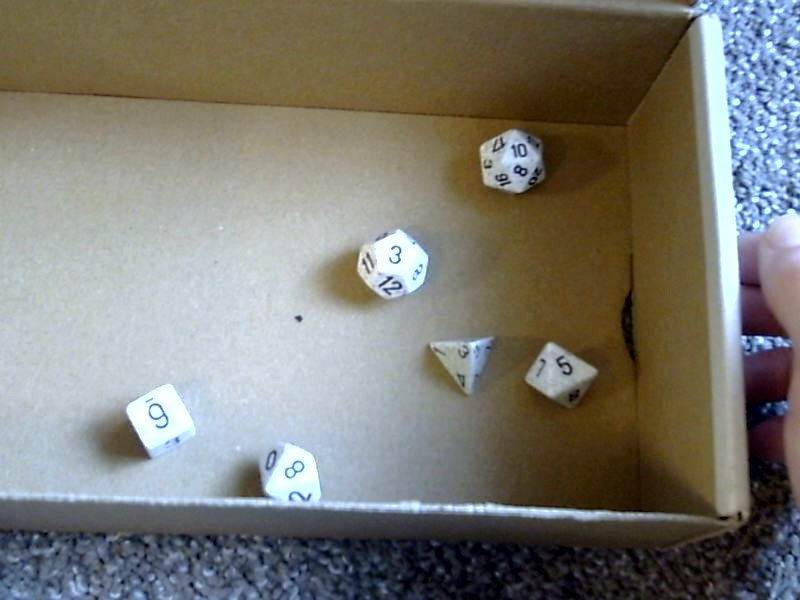d10 8: (252, 439, 329, 511)
d12 3: (350, 221, 430, 307)
d20 10: (472, 126, 552, 198)
d4 3: (421, 329, 499, 400)
d6 6: (113, 377, 198, 467)
d8 5: (523, 334, 601, 415)
